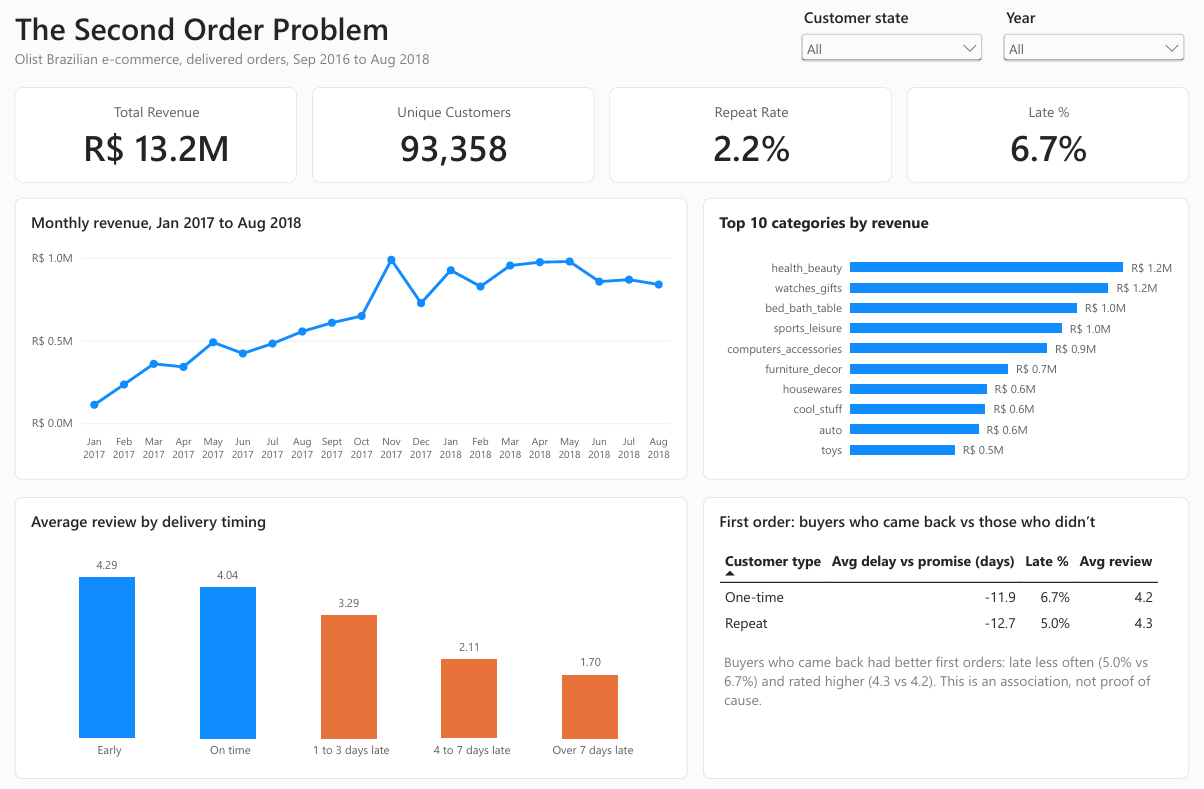

The dashboard page shown, as its layout file describes it:
{"tool":"powerbi","page":{"name":"Dashboard","canvas":[1280,850],"ordinal":0},"visuals":[{"type":"textbox","box":[24,16,800,48],"z":0},{"type":"cardVisual","fields":{"Data":["FactOrders.Total Revenue"]},"box":[24,100,296,100],"z":1000},{"type":"textbox","box":[24,60,800,28],"z":2000},{"type":"cardVisual","fields":{"Data":["FactOrders.Unique Customers Display"]},"box":[336,100,296,100],"z":3000},{"type":"cardVisual","fields":{"Data":["FactOrders.Repeat Rate"]},"box":[648,100,296,100],"z":4000},{"type":"cardVisual","fields":{"Data":["FactOrders.Late %"]},"box":[960,100,296,100],"z":5000},{"type":"lineChart","title":"Monthly revenue, Jan 2017 to Aug 2018","fields":{"Category":["DimDate.MonthName"],"Y":["FactOrders.Total Revenue"]},"box":[24,216,706,296],"z":6000},{"type":"clusteredBarChart","title":"Top 10 categories by revenue","fields":{"Category":["DimProduct.category"],"Y":["FactOrders.Total Revenue"]},"box":[746,216,510,296],"z":7000},{"type":"clusteredColumnChart","title":"Average review by delivery timing","fields":{"Category":["FactOrders.delay_bucket"],"Y":["FactOrders.Avg Review"]},"box":[24,530,706,296],"z":8000},{"type":"tableEx","title":"First order: buyers who came back vs those who didn’t","fields":{"Values":["FactOrders.customer_type","FactOrders.Avg Delay Days","FactOrders.Late %","FactOrders.Avg Review"]},"box":[746,530,510,296],"z":9000},{"type":"textbox","box":[768,692,452,64],"z":10000},{"type":"slicer","fields":{"Values":["DimCustomer.state"]},"box":[844,16,200,64],"z":11000},{"type":"slicer","fields":{"Values":["DimDate.Year"]},"box":[1056,16,200,64],"z":12000}]}

Visuals, with their boxes in screenshot pixels (x1, y1, x2, y2), scaled from the page's 1280x850 canvas onto the 1204x789 screenshot:
textbox: 23 15 775 59
cardVisual - FactOrders.Total Revenue: 23 93 301 186
textbox: 23 56 775 82
cardVisual - FactOrders.Unique Customers Display: 316 93 594 186
cardVisual - FactOrders.Repeat Rate: 610 93 888 186
cardVisual - FactOrders.Late %: 903 93 1181 186
"Monthly revenue, Jan 2017 to Aug 2018" lineChart: 23 200 687 475
"Top 10 categories by revenue" clusteredBarChart: 702 200 1181 475
"Average review by delivery timing" clusteredColumnChart: 23 492 687 767
"First order: buyers who came back vs those who didn’t" tableEx: 702 492 1181 767
textbox: 722 642 1148 702
slicer - DimCustomer.state: 794 15 982 74
slicer - DimDate.Year: 993 15 1181 74
